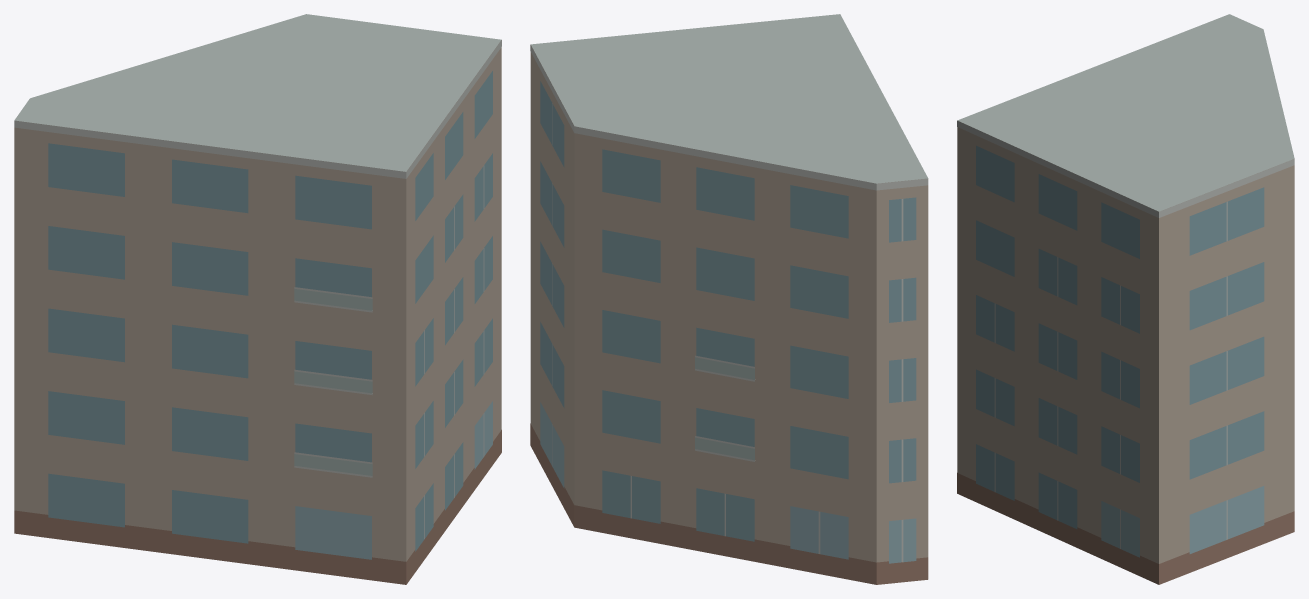
Rendered from survey-upis-32888626.glb.
3 views of the same model, side by side, from view 1: azimuth 30°, elevation 25°; view 2: azimuth 150°, elevation 25°; view 3: azimuth 270°, elevation 25° (orthographic). The views are drawn at different scales.
Parts seen in each view (by area): view 1: survey-upis-32888626.tmp; view 2: survey-upis-32888626.tmp; view 3: survey-upis-32888626.tmp.
Boxes of the visible parts, x1=… form: survey-upis-32888626.tmp: x1=14, y1=14, x2=501, y2=584; survey-upis-32888626.tmp: x1=530, y1=14, x2=928, y2=584; survey-upis-32888626.tmp: x1=957, y1=14, x2=1294, y2=584.
Bounding box in the file's own units: 16.14 × 14.2 × 11.65.
